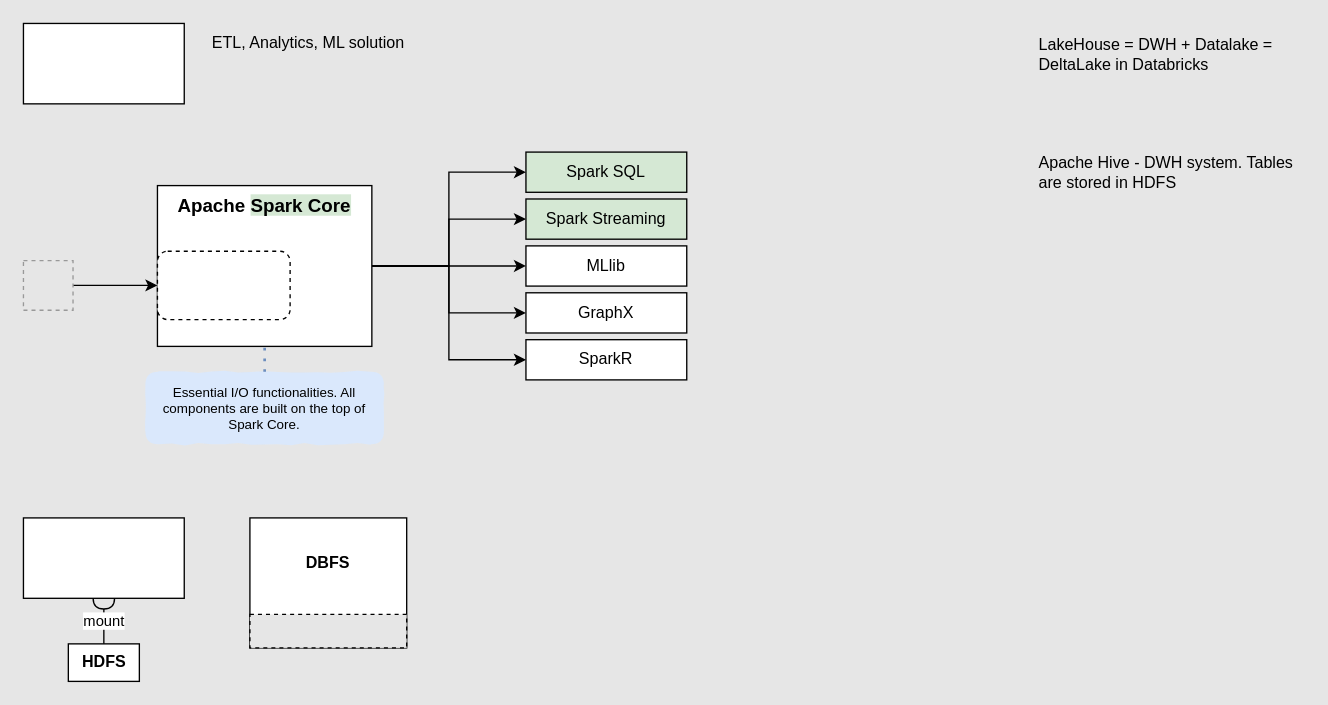
This 1328x705 diagram has some shape labels left out. Grey dashed boxes stand in for pictures. The centre of each missing label's shape, as x and y in pixels:
"Apache Spark (processing only unit)" goes at (x=103, y=557).
"API R, SQL, Python, Scala, Java" goes at (x=223, y=285).
"Azure Blob Storage" goes at (x=328, y=630).
"Databricks" goes at (x=103, y=63).
